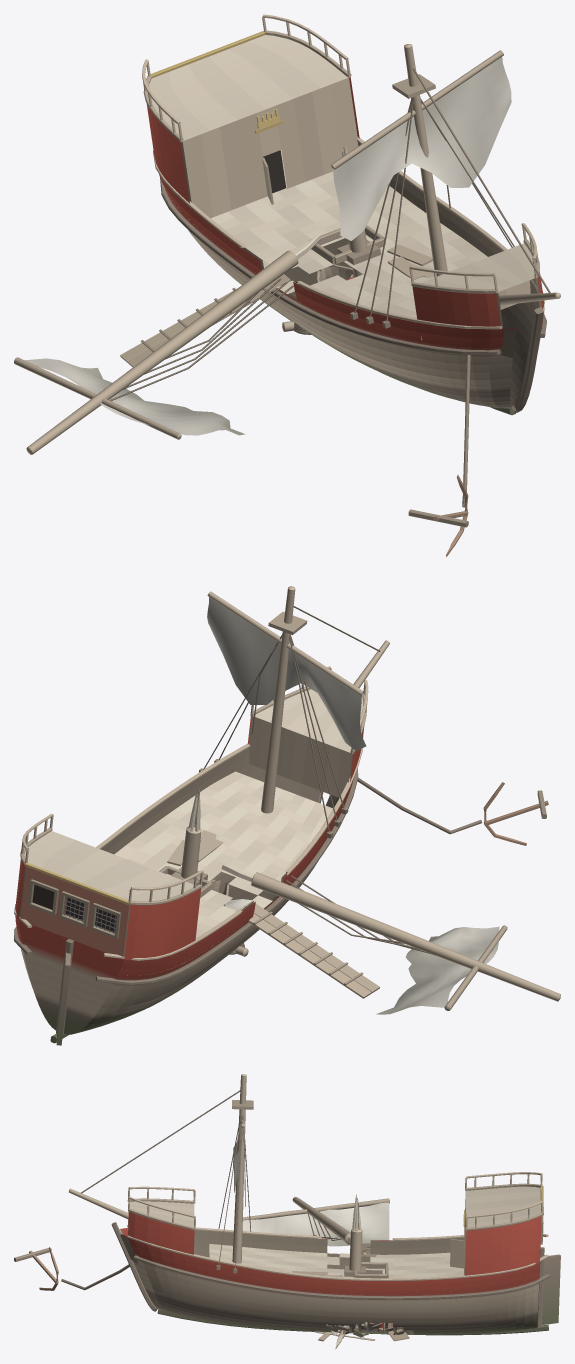
File: wreck_cove.glb
The picture shows the model from 3 angles, top to bottom: view 1: azimuth 30°, elevation 25°; view 2: azimuth 150°, elevation 25°; view 3: azimuth 270°, elevation 25°; orthographic projection. The views are drawn at different scales.
Parts seen in each view (by area): view 1: cove_wreck; view 2: cove_wreck; view 3: cove_wreck.
Boxes of the visible parts, left/top/right/bottom form: cove_wreck: left=14, top=14, right=560, bottom=556; cove_wreck: left=14, top=586, right=560, bottom=1045; cove_wreck: left=14, top=1074, right=560, bottom=1337.
Size of the model in its own units: 15.56 by 11.66 by 22.85.
